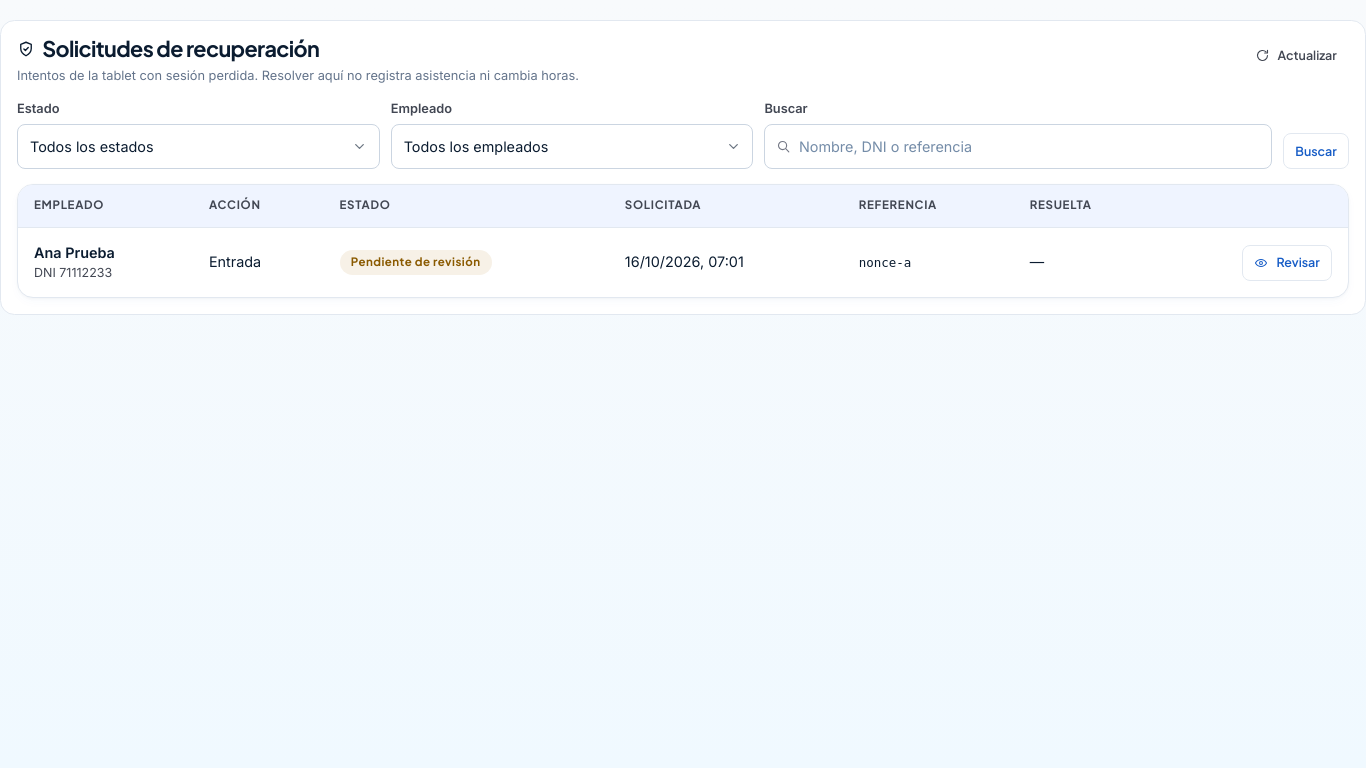
panel de solicitudes de recuperación › explica el estado real EXPIRED_UNCONFIRMED sin confundirlo con una confirmación
The width and height of the screenshot is (1366, 768).
Expected: the dropdown named "Filtrar solicitudes por empleado" is shown, [391,124,753,169]
Expected: the dropdown named "Filtrar solicitudes por estado" is shown, [17,124,380,169]
Click the button with test id "recovery-open".
click(1287, 263)  # box [1242,245,1332,281]
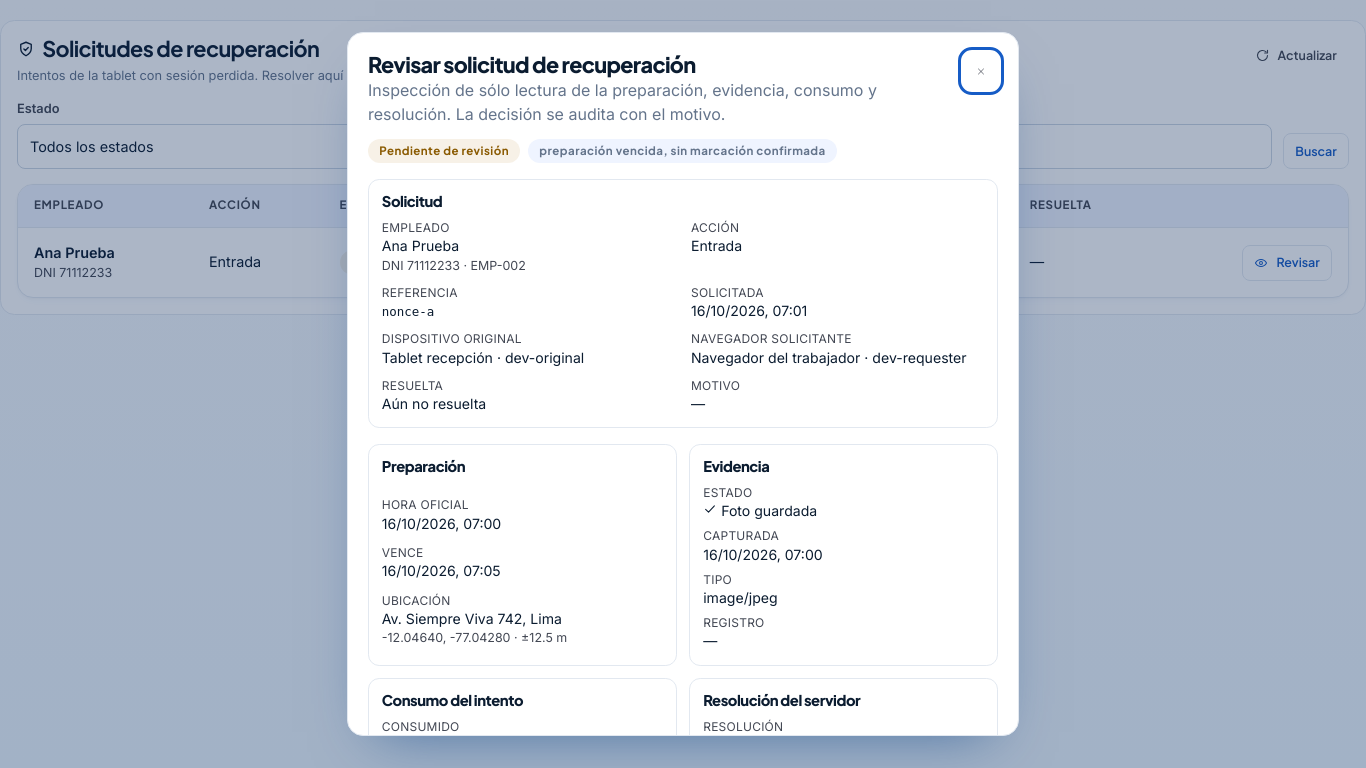
Expected: the text "preparación vencida, sin marcación confirmada" is shown, [528,139,837,163]
